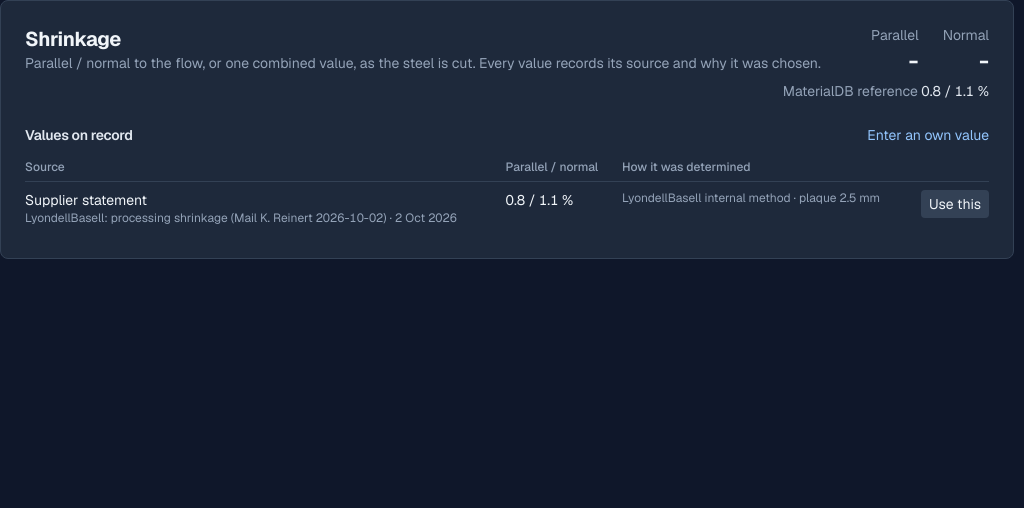
ToolShrinkCard › offers parallel and normal when the combined box is cleared
Click the button with test id "shrink-own" at (928, 135), box x1=867 y1=125 x2=989 y2=145
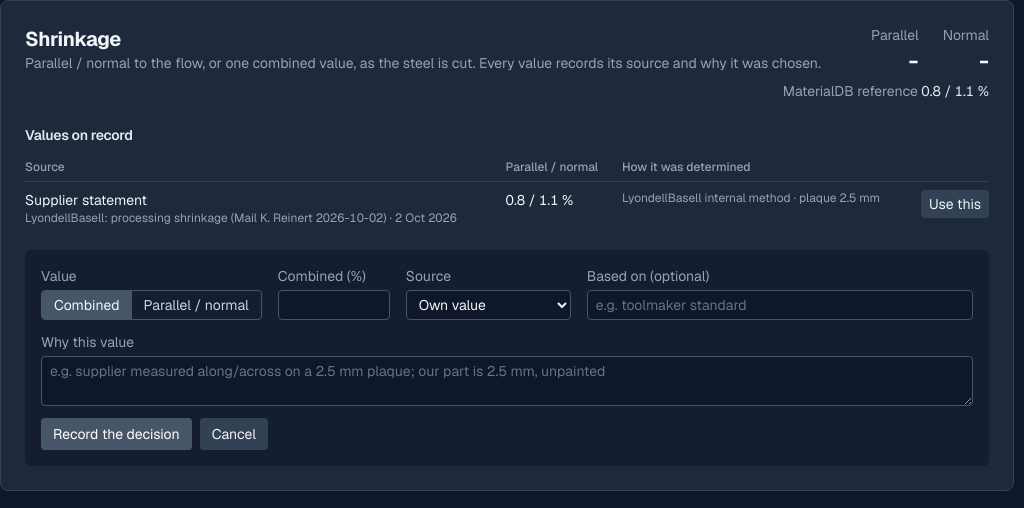
Click the radio button with test id "shrink-mode-split" at (196, 305), box x1=144 y1=296 x2=249 y2=314
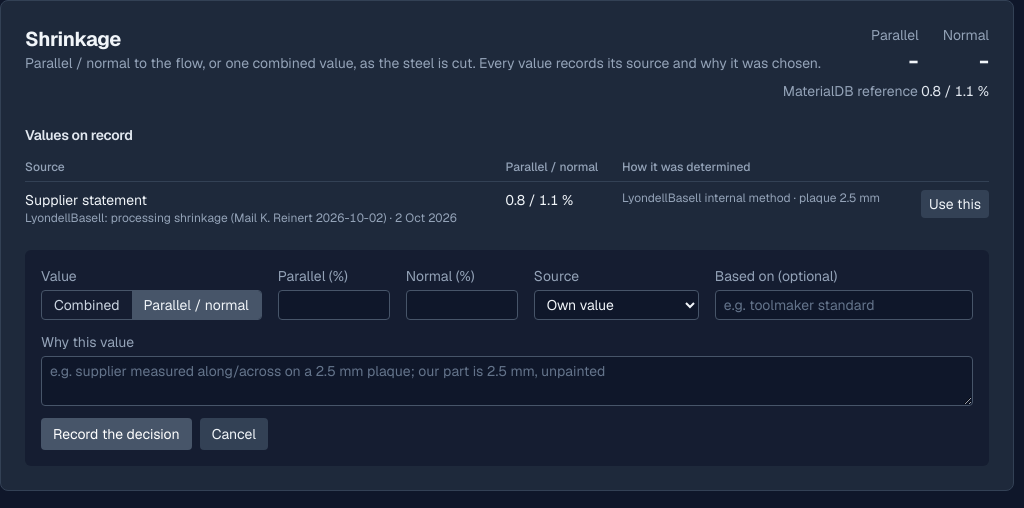
Result: the field with test id "shrink-normal" is shown at x1=406 y1=290 x2=518 y2=320
